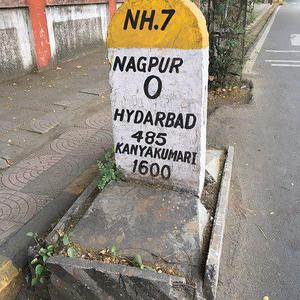kmstone: (102, 1, 213, 194)
